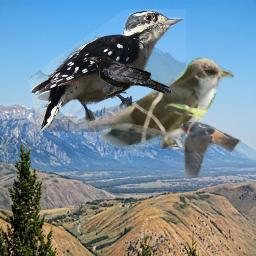Crow: (87, 56, 172, 99)
Cuckoo: (82, 57, 234, 149)
Swallow: (179, 119, 241, 178)
Woodpecker: (28, 9, 186, 132)
